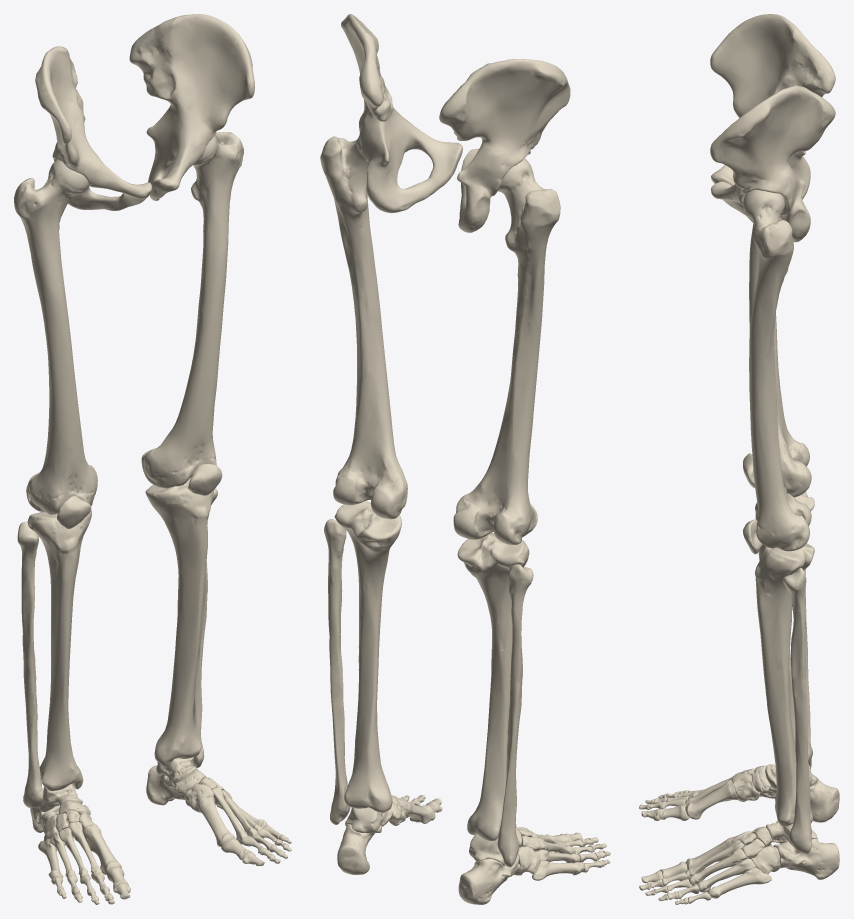
Rendered from region-5.glb.
The picture shows the model from 3 angles, left to right: view 1: azimuth 30°, elevation 25°; view 2: azimuth 150°, elevation 25°; view 3: azimuth 270°, elevation 25°; orthographic projection. The views are drawn at different scales.
Visible parts, largest first — view 1: bone_hip_L, bone_femur_R, bone_femur_L, bone_tibia_L, bone_tibia_R, bone_hip_R, bone_fibula_R, bone_fibula_L, bone_calcaneus_L, bone_patella_L, bone_metatarsal_1_R, bone_metatarsal_1_L (+3 smaller); view 2: bone_femur_R, bone_femur_L, bone_hip_R, bone_tibia_L, bone_hip_L, bone_tibia_R, bone_fibula_L, bone_fibula_R, bone_calcaneus_R, bone_calcaneus_L, bone_talus_L, bone_talus_R (+1 smaller); view 3: bone_femur_L, bone_hip_L, bone_hip_R, bone_tibia_L, bone_fibula_L, bone_femur_R, bone_calcaneus_L, bone_calcaneus_R, bone_metatarsal_1_R, bone_metatarsal_5_L, bone_tibia_R, bone_metatarsal_4_L (+7 smaller).
Boxes of the visible parts, x1,y1,x2,y2 form: bone_hip_L: (129, 14, 254, 200); bone_femur_R: (14, 159, 97, 514); bone_femur_L: (141, 132, 243, 488); bone_tibia_L: (145, 477, 214, 767); bone_tibia_R: (27, 510, 91, 791); bone_hip_R: (35, 46, 151, 210); bone_fibula_R: (17, 521, 43, 807); bone_fibula_L: (193, 488, 217, 767); bone_calcaneus_L: (146, 765, 184, 805); bone_patella_L: (188, 463, 222, 495); bone_metatarsal_1_R: (83, 824, 121, 874); bone_metatarsal_1_L: (197, 796, 234, 846); bone_femur_R: (453, 158, 560, 544); bone_femur_L: (320, 135, 407, 519); bone_hip_R: (439, 59, 570, 232); bone_tibia_L: (334, 501, 401, 811); bone_hip_L: (341, 14, 462, 213); bone_tibia_R: (457, 533, 529, 840); bone_fibula_L: (324, 519, 350, 824); bone_fibula_R: (497, 564, 533, 867); bone_calcaneus_R: (458, 854, 520, 904); bone_calcaneus_L: (337, 824, 381, 874); bone_talus_L: (345, 807, 391, 833); bone_talus_R: (469, 834, 504, 865); bone_femur_L: (743, 190, 811, 551); bone_hip_L: (710, 85, 835, 242); bone_hip_R: (710, 14, 835, 199); bone_tibia_L: (755, 543, 814, 826); bone_fibula_L: (783, 567, 811, 853); bone_femur_R: (749, 223, 811, 497); bone_calcaneus_L: (773, 838, 839, 879); bone_calcaneus_R: (810, 776, 839, 822); bone_metatarsal_1_R: (685, 780, 737, 819); bone_metatarsal_5_L: (707, 867, 771, 898); bone_tibia_R: (755, 492, 814, 761); bone_metatarsal_4_L: (697, 858, 756, 892).
Bounding box in the file's own units: 0.2913 × 0.9714 × 0.2217.
